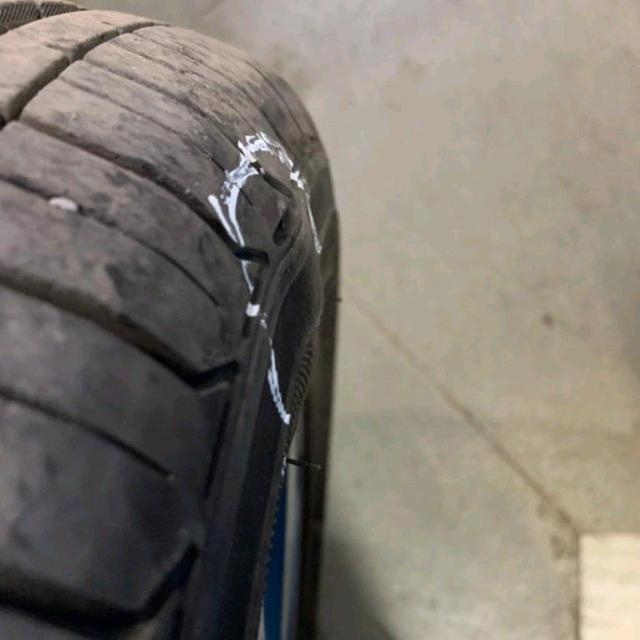Bulge: (237, 148, 338, 407)
